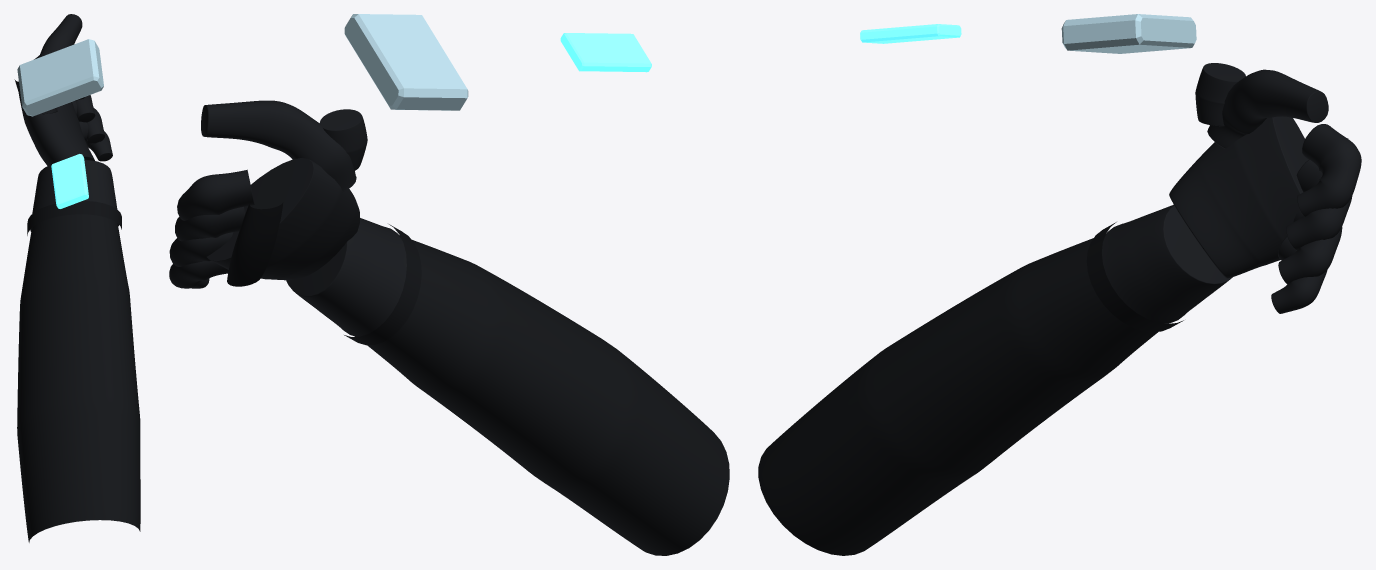
Rendered from hands_glacier_magout.glb.
3 renders of one model, left to right at view 1: azimuth 30°, elevation 25°; view 2: azimuth 150°, elevation 25°; view 3: azimuth 270°, elevation 25°, orthographic. The views are drawn at different scales.
Visible parts, largest first — view 1: hand_l_forearm, hand_l_cuff_plate, hand_l_palm, hand_l_cuff, hand_l_lamp, hand_l_cuff_strap, hand_l_thumb, hand_l_little, hand_l_ring, hand_l_middle; view 2: hand_l_forearm, hand_l_palm, hand_l_cuff_plate, hand_l_cuff, hand_l_thumb, hand_l_lamp, hand_l_knuckle_panel, hand_l_index, hand_l_cuff_strap, hand_l_web, hand_l_middle, hand_l_ring (+1 smaller); view 3: hand_l_forearm, hand_l_palm, hand_l_cuff, hand_l_thumb, hand_l_cuff_plate, hand_l_index, hand_l_middle, hand_l_cuff_strap, hand_l_web, hand_l_ring, hand_l_little, hand_l_lamp.
Part boxes in pixels (x1,y1,x2,y2): hand_l_forearm: [17, 214, 140, 542]; hand_l_cuff_plate: [17, 39, 103, 116]; hand_l_palm: [18, 81, 94, 166]; hand_l_cuff: [30, 159, 118, 231]; hand_l_lamp: [51, 154, 88, 208]; hand_l_cuff_strap: [27, 201, 121, 235]; hand_l_thumb: [39, 14, 82, 114]; hand_l_little: [79, 121, 112, 161]; hand_l_ring: [72, 101, 104, 143]; hand_l_middle: [75, 95, 95, 122]; hand_l_forearm: [367, 235, 729, 555]; hand_l_palm: [207, 158, 359, 280]; hand_l_cuff_plate: [344, 14, 468, 110]; hand_l_cuff: [286, 218, 406, 336]; hand_l_thumb: [201, 100, 356, 191]; hand_l_lamp: [560, 33, 651, 72]; hand_l_knuckle_panel: [227, 202, 283, 286]; hand_l_index: [177, 169, 254, 220]; hand_l_cuff_strap: [344, 224, 421, 345]; hand_l_web: [320, 109, 367, 170]; hand_l_middle: [175, 206, 245, 241]; hand_l_ring: [169, 232, 233, 266]; hand_l_forearm: [758, 238, 1168, 555]; hand_l_palm: [1169, 116, 1308, 278]; hand_l_cuff: [1102, 204, 1232, 323]; hand_l_thumb: [1207, 69, 1328, 148]; hand_l_cuff_plate: [1061, 14, 1196, 53]; hand_l_index: [1297, 124, 1361, 216]; hand_l_middle: [1286, 159, 1352, 250]; hand_l_cuff_strap: [1086, 222, 1183, 332]; hand_l_web: [1195, 63, 1245, 126]; hand_l_ring: [1278, 211, 1342, 284]; hand_l_little: [1271, 236, 1327, 313]; hand_l_lamp: [860, 24, 961, 43].
Bounding box in the file's own units: 0.1719 × 0.297 × 0.2661.
